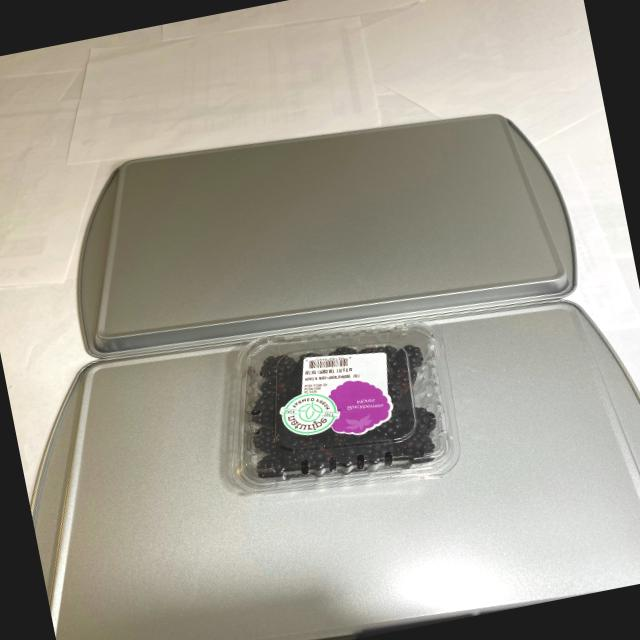blackberries: (208, 308, 454, 498)
